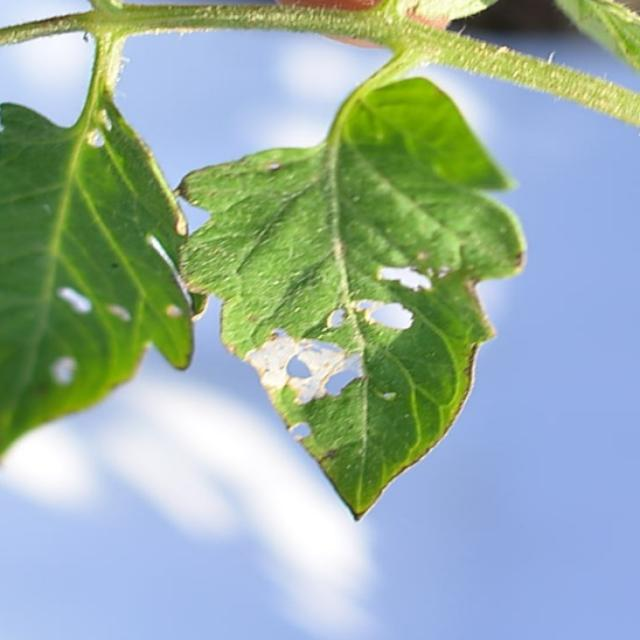infected: (249, 156, 485, 446), (45, 109, 217, 394)
